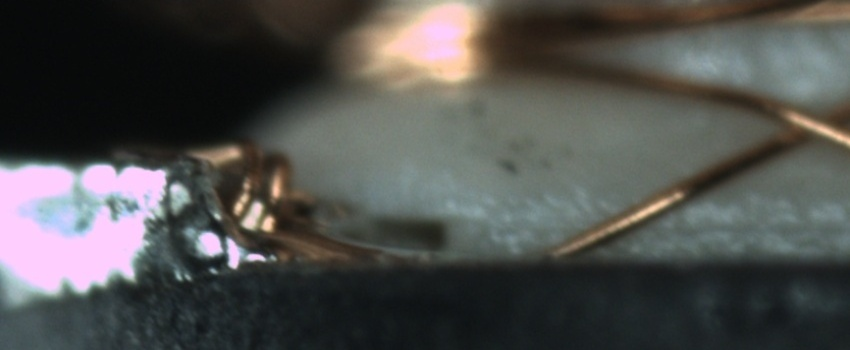CL: (758, 90, 848, 157)
DL: (498, 189, 849, 248)
TE: (180, 136, 313, 241)
